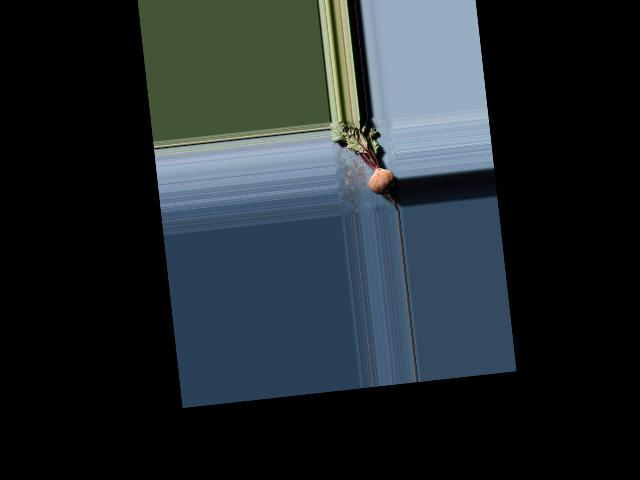beet: (329, 115, 399, 216)
